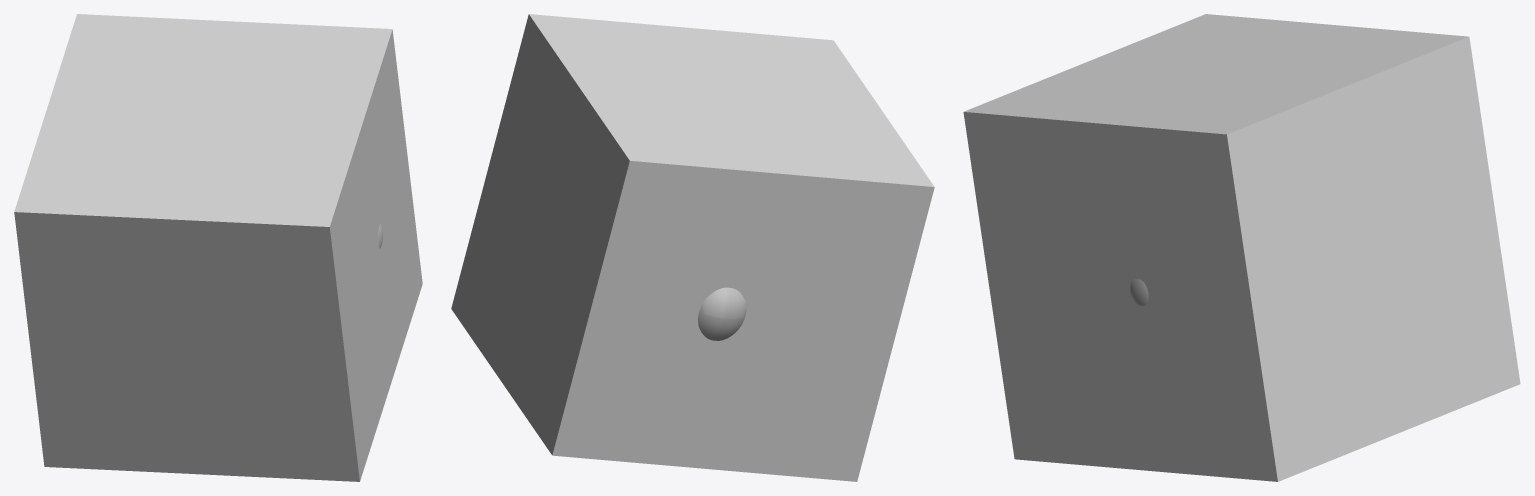
The model's file is NuovoSitoEsagonoMenuMainAzienda.gltf.
The picture shows the model from 3 angles, left to right: view 1: azimuth 30°, elevation 25°; view 2: azimuth 150°, elevation 25°; view 3: azimuth 270°, elevation 25°; orthographic projection. The views are drawn at different scales.
Parts seen in each view (by area): view 1: Cubo; view 2: Cubo; view 3: Cubo.
Boxes of the visible parts, box(x1,y1,x2,y2) form: Cubo: box(14, 14, 422, 481); Cubo: box(451, 14, 934, 481); Cubo: box(963, 14, 1520, 481).
Size of the model in its own units: 2.33 by 1.85 by 2.28.
2 materials, 1 textured.
